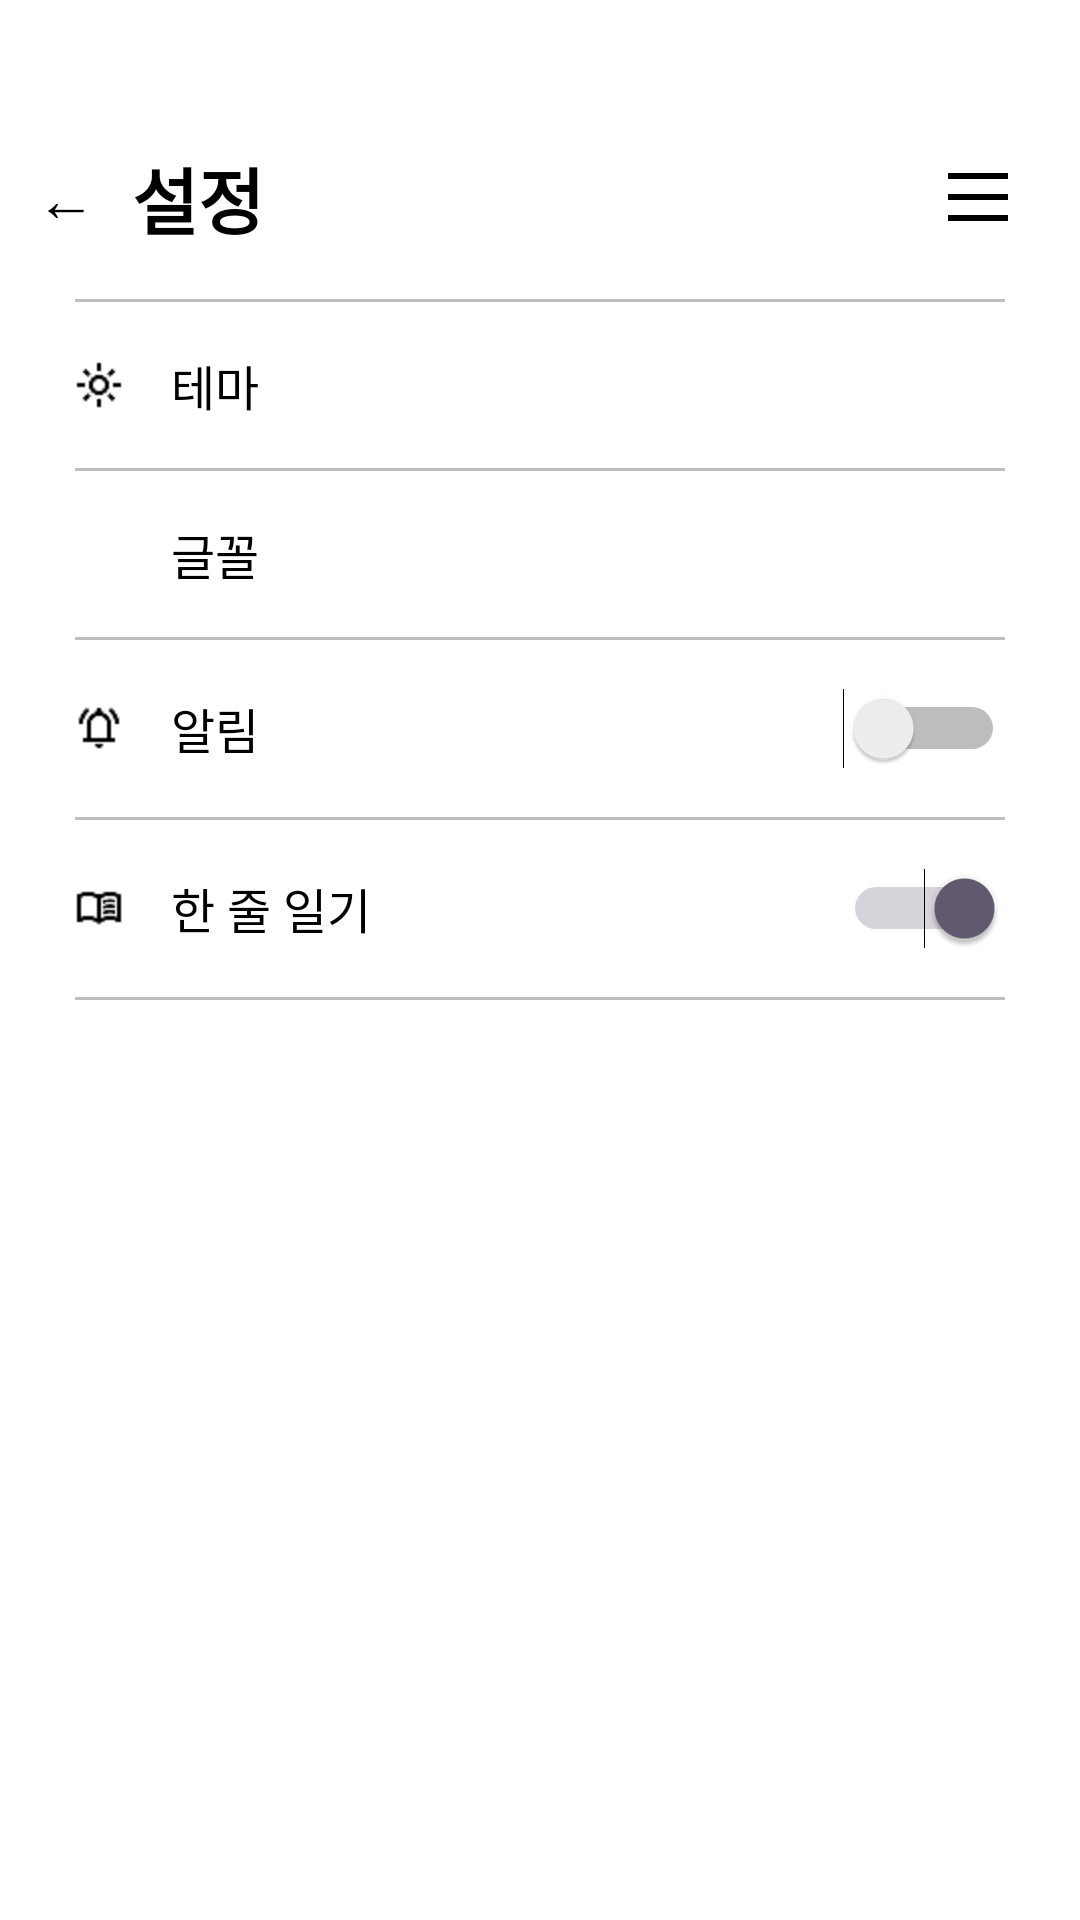

Icon click points for this 1080×1920 phone screenshot, format point (x, y):
alarm: point (99, 728)
diary: point (99, 908)
theme: point (99, 385)
